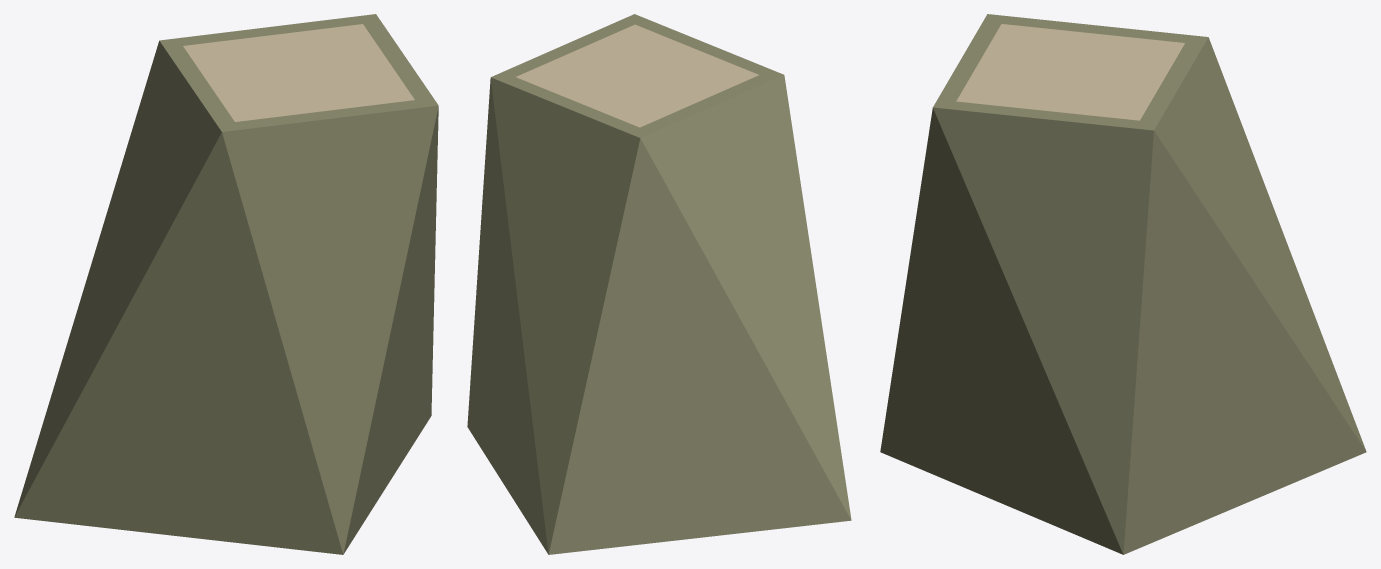
The model's file is Dead_Stump_02.fbx.
The picture shows the model from 3 angles, left to right: view 1: azimuth 30°, elevation 25°; view 2: azimuth 150°, elevation 25°; view 3: azimuth 270°, elevation 25°; orthographic projection. The views are drawn at different scales.
Visible parts, largest first — view 1: Dead_Stump_02; view 2: Dead_Stump_02; view 3: Dead_Stump_02.
Part boxes in pixels (x1,y1,x2,y2): Dead_Stump_02: (14, 14, 438, 554); Dead_Stump_02: (467, 14, 851, 554); Dead_Stump_02: (880, 14, 1366, 554).
Bounding box in the file's own units: 98.01 × 89.93 × 98.01.
